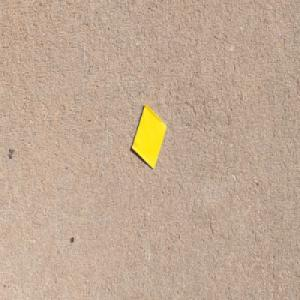PlasticPart: (130, 102, 167, 170)
